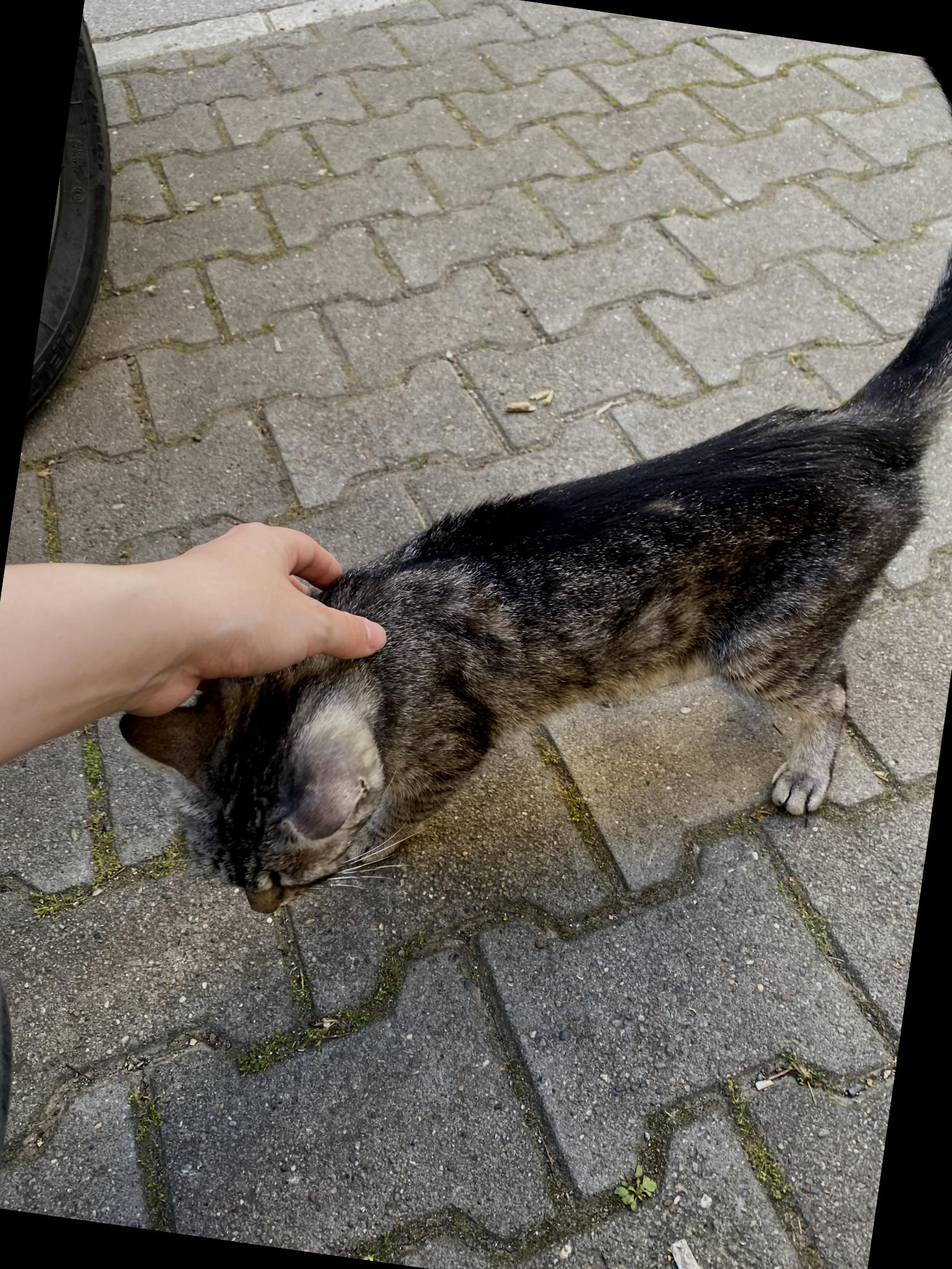macka: (94, 0, 952, 1006)
